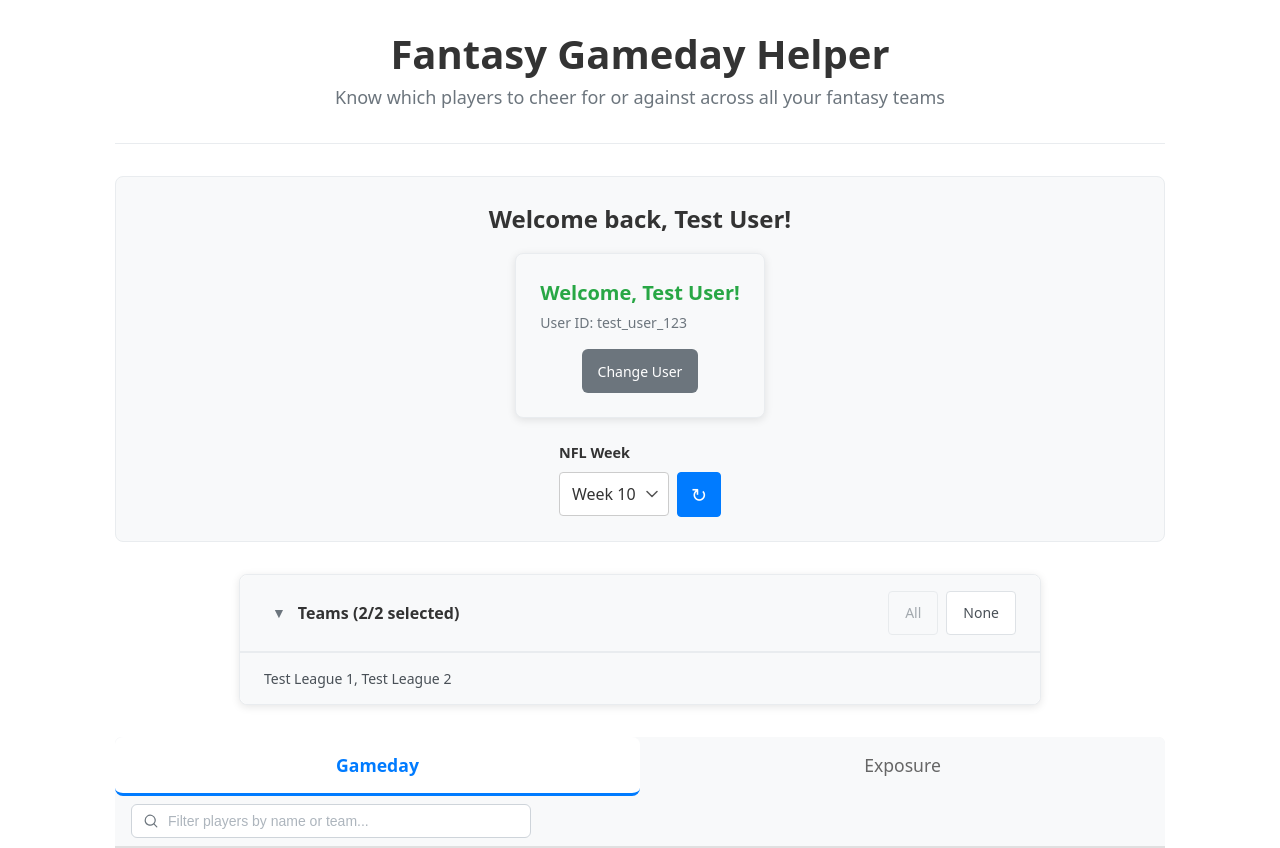
it: App - Infinite Loop Regression Tests › should maintain data consistency during team selection changes
The image size is (1280, 848).
Check: the heading "Welcome back, Test User!" is shown, box left=489, top=201, right=791, bottom=237
Click the button "▼ Teams (2/2 selected)". click: coordinates (366, 613)
box: left=264, top=591, right=467, bottom=635
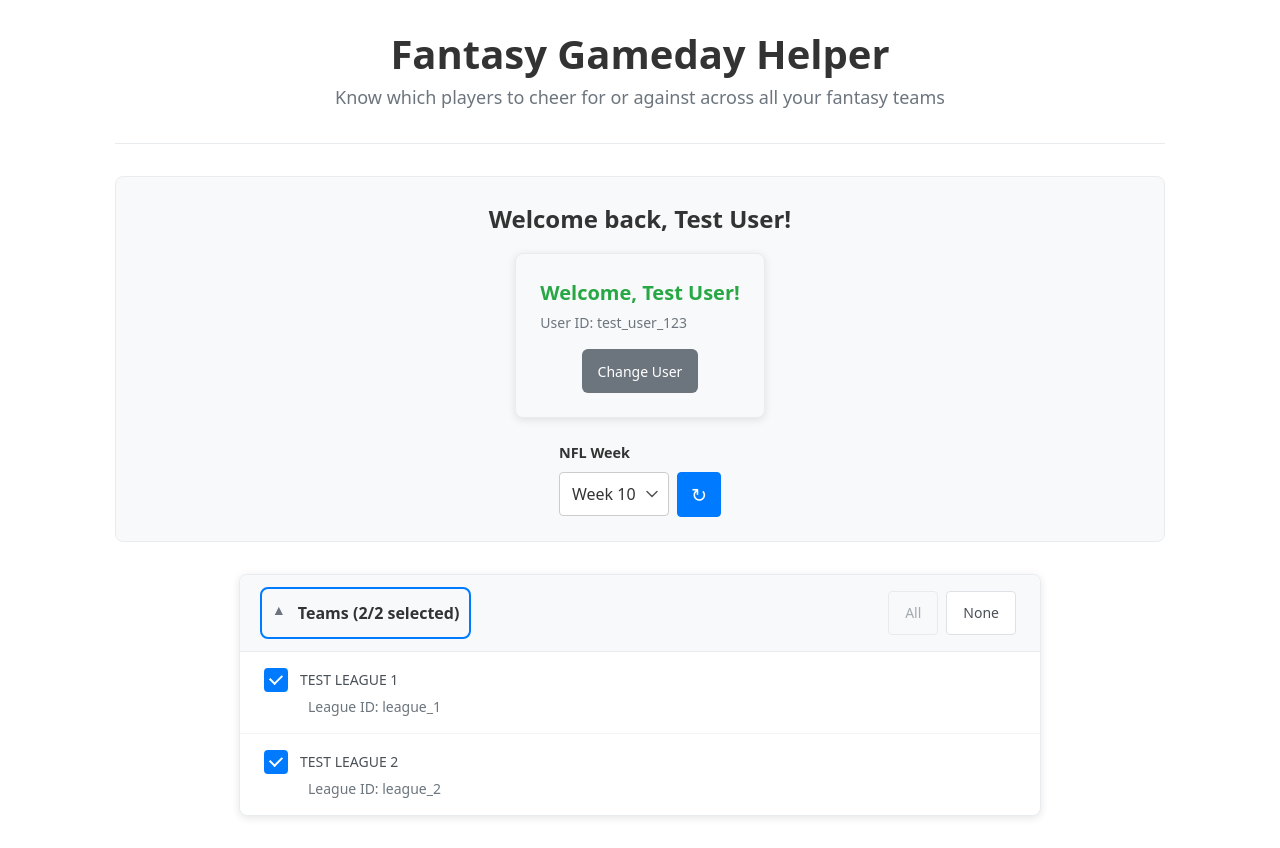
// Deselecting one of two teams leaves the other selected and loaded
Click the checkbox labelled "Test League 1". click: coordinates (331, 680)
box: left=264, top=668, right=398, bottom=692
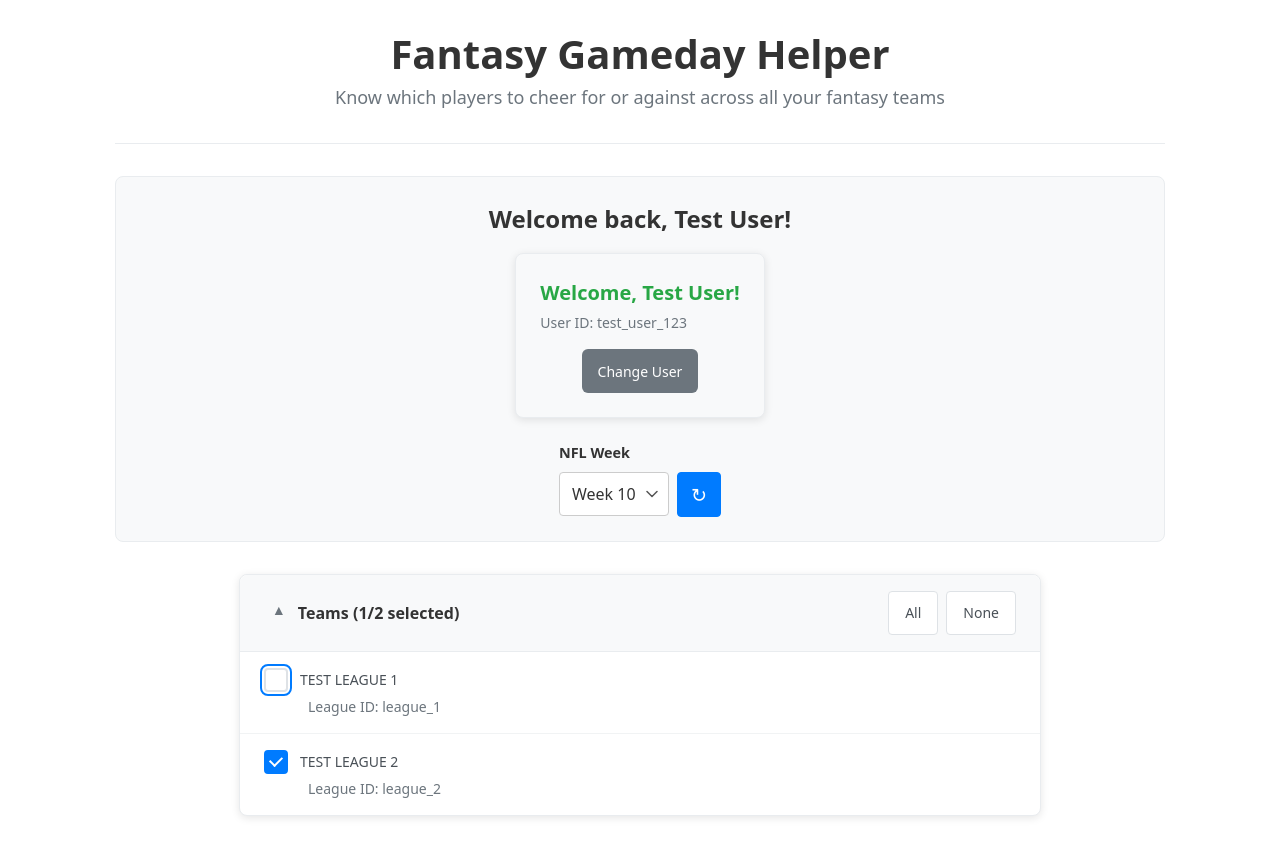
Check: the heading "Welcome back, Test User!" is shown, box left=489, top=201, right=791, bottom=237
Check: the button "▼ Teams (1/2 selected)" is shown, box left=264, top=591, right=467, bottom=635
